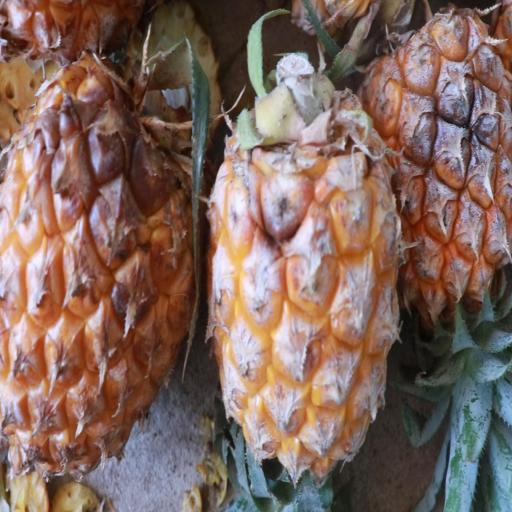Pineapple - v8 v1: (0, 56, 197, 512), (202, 78, 403, 512), (360, 0, 509, 385)
